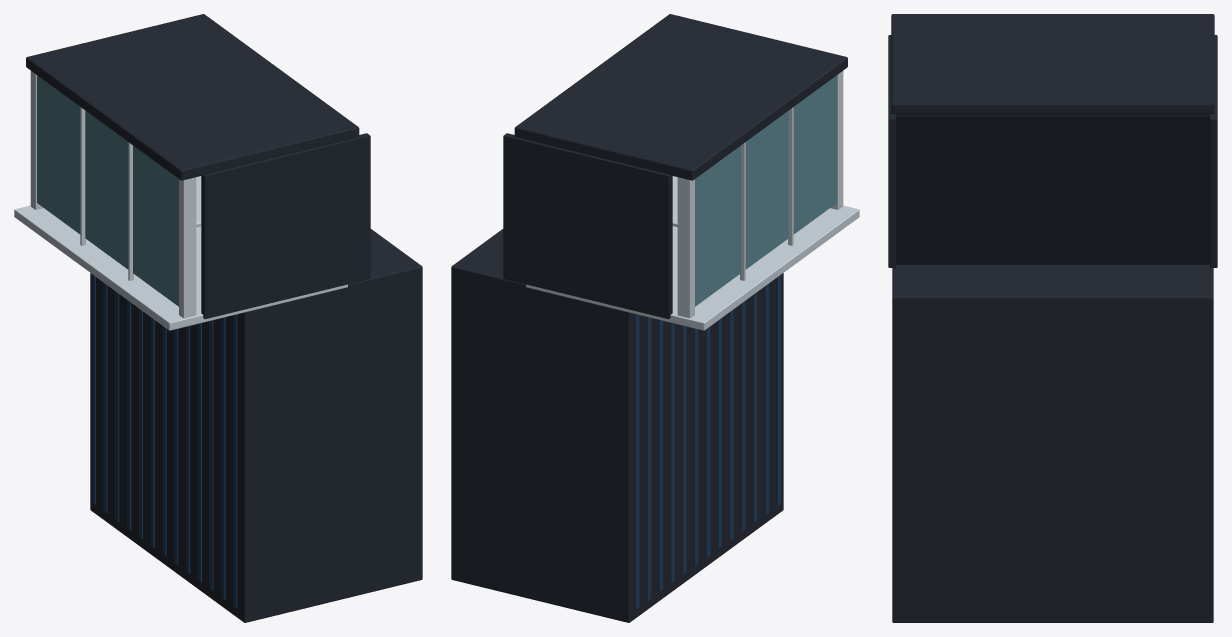
The model's file is SM_BankerSuite.fbx.
The picture shows the model from 3 angles, left to right: view 1: azimuth 30°, elevation 25°; view 2: azimuth 150°, elevation 25°; view 3: azimuth 270°, elevation 25°; orthographic projection. The views are drawn at different scales.
Visible parts, largest first — view 1: SM_BankerSuite; view 2: SM_BankerSuite; view 3: SM_BankerSuite.
Part boxes in pixels (box(x1,y1,x2,y2)): SM_BankerSuite: box(14, 14, 422, 622); SM_BankerSuite: box(451, 14, 859, 622); SM_BankerSuite: box(888, 14, 1217, 622).
Bounding box in the file's own units: 398 × 430 × 702.
